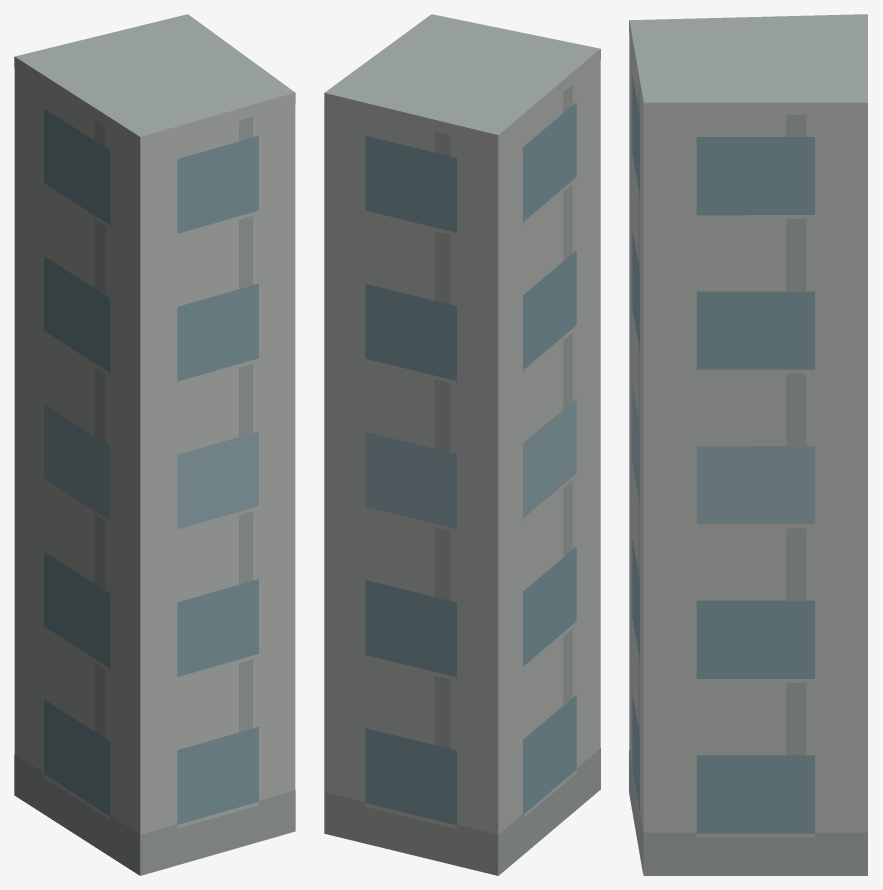
File: survey-upis-32697898.glb
The picture shows the model from 3 angles, left to right: view 1: azimuth 30°, elevation 25°; view 2: azimuth 150°, elevation 25°; view 3: azimuth 270°, elevation 25°; orthographic projection. The views are drawn at different scales.
Parts seen in each view (by area): view 1: survey-upis-32697898.tmp; view 2: survey-upis-32697898.tmp; view 3: survey-upis-32697898.tmp.
Boxes of the visible parts, left/top/right/bottom form: survey-upis-32697898.tmp: left=14, top=14, right=295, bottom=875; survey-upis-32697898.tmp: left=324, top=14, right=600, bottom=875; survey-upis-32697898.tmp: left=629, top=14, right=867, bottom=875.
Bounding box in the file's own units: 3.77 × 15.25 × 4.29.
